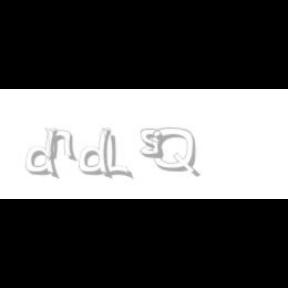L: (102, 128, 130, 180)
Q: (152, 128, 198, 178)
d: (79, 128, 116, 180), (26, 128, 62, 180)
n: (44, 128, 78, 162)
s: (140, 128, 168, 160)
